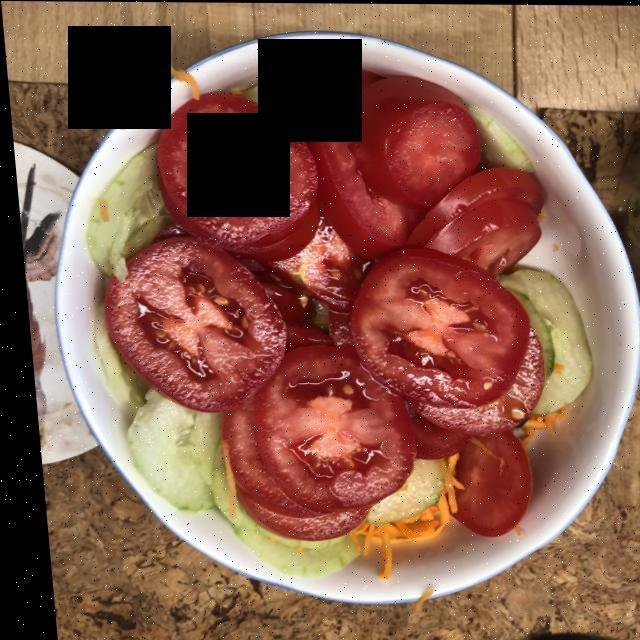carrot: (342, 463, 444, 558)
tomato: (106, 82, 535, 545)
